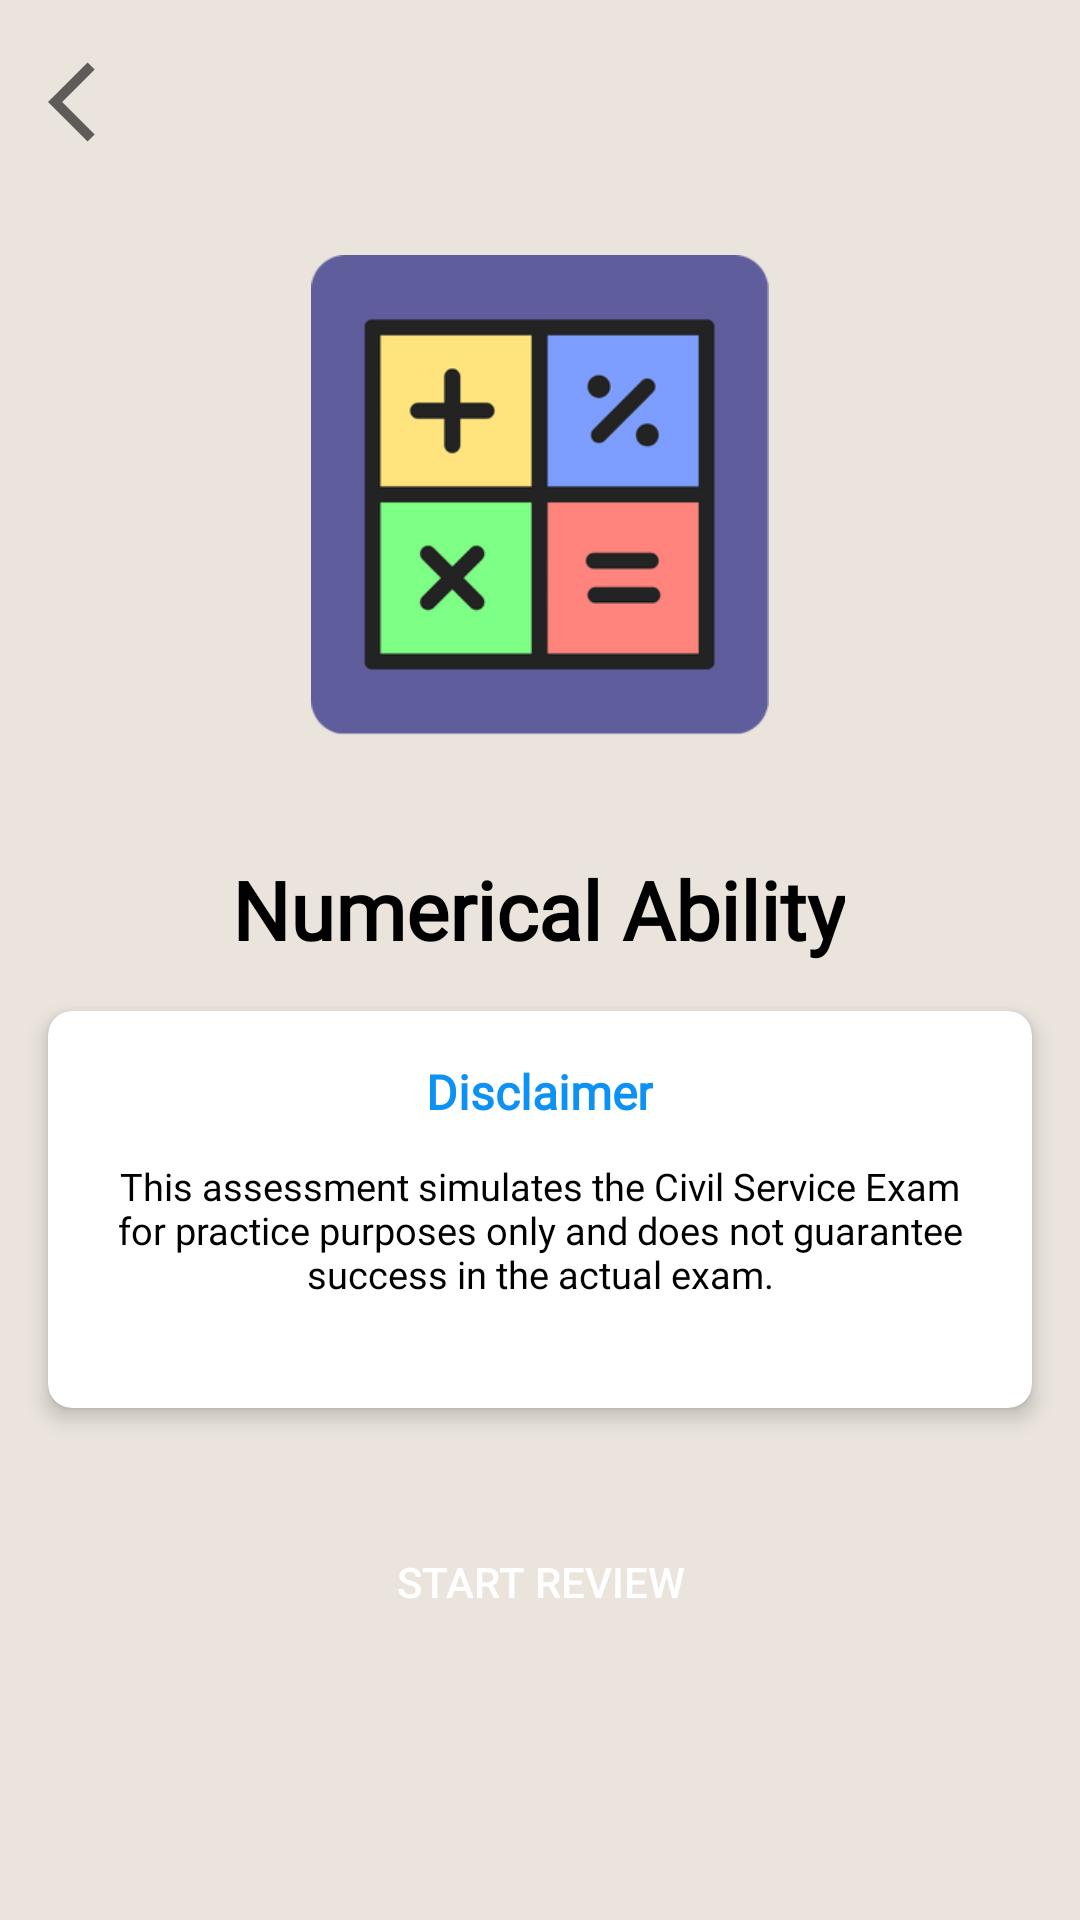

Icon click points for this 1080*1920 phone screenshot, format [x,y]:
arrow back: [71,102]
